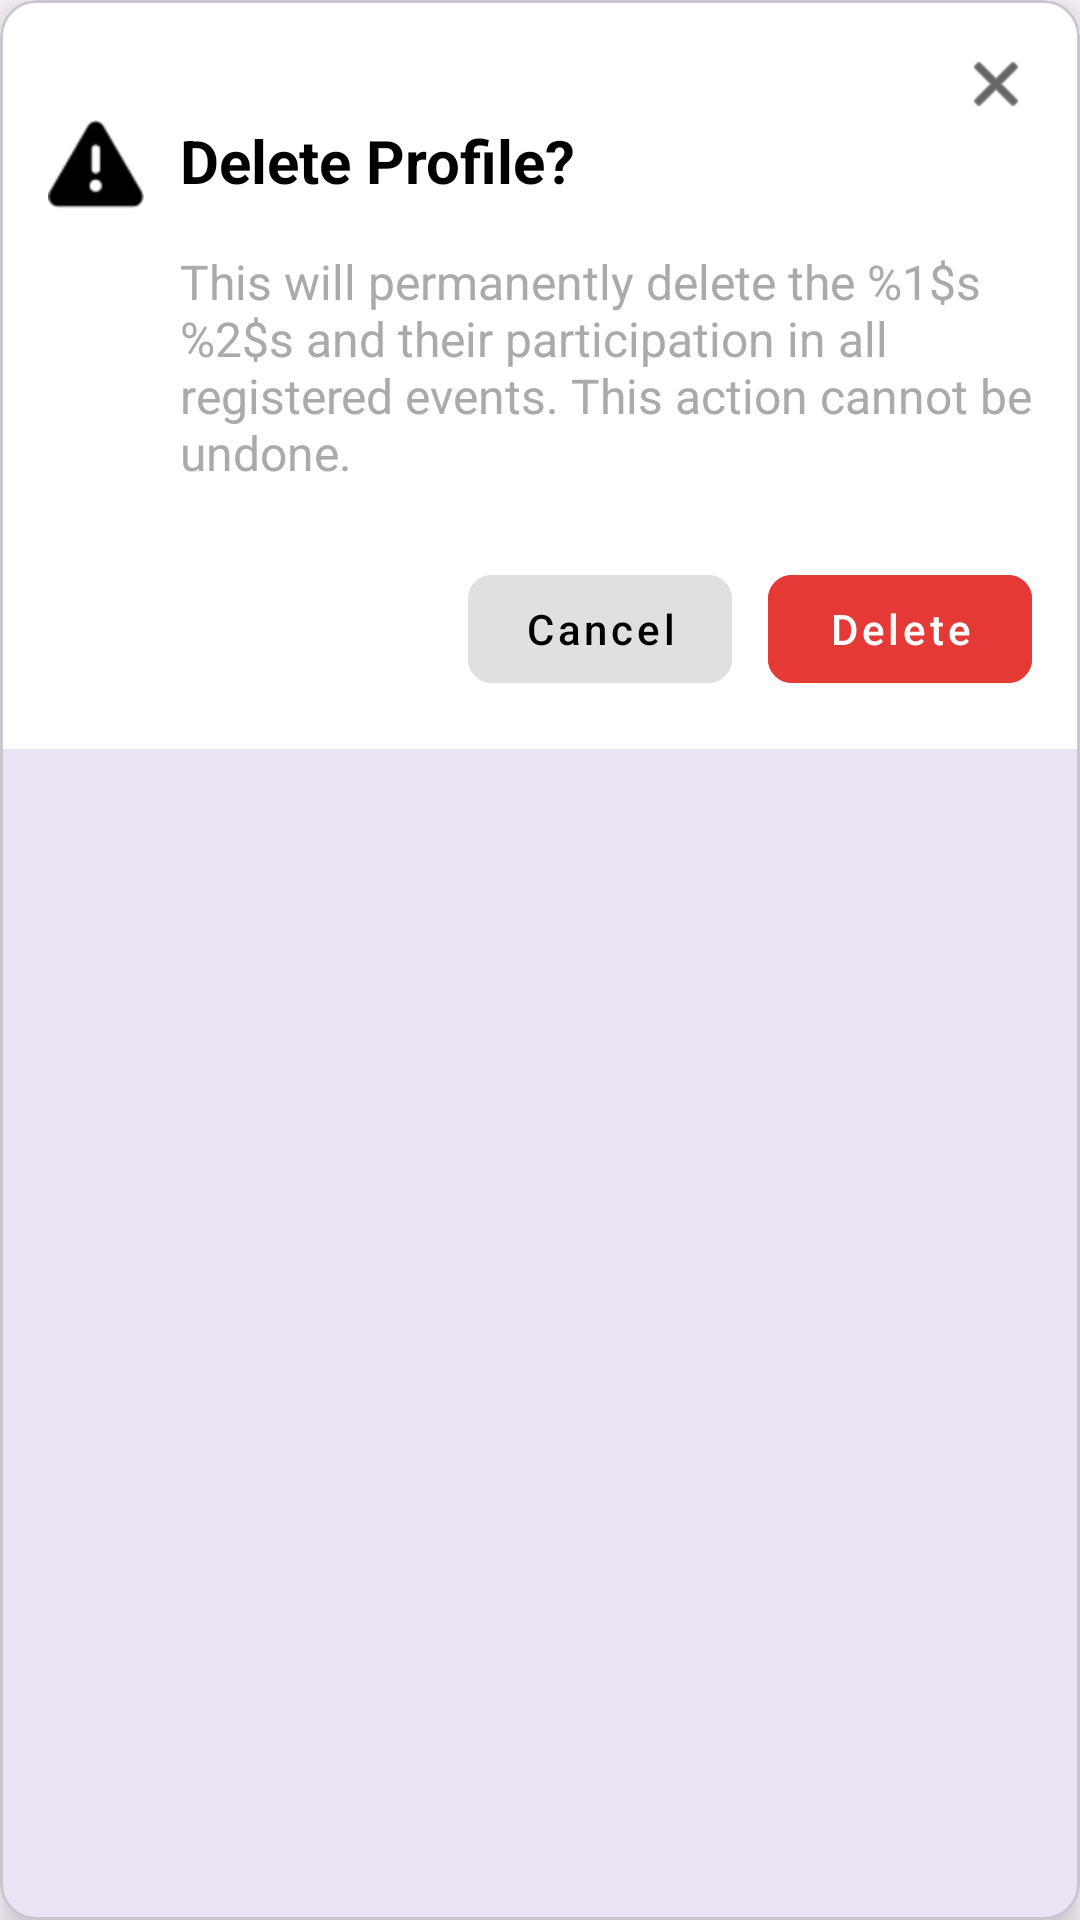

Named icons in this screenshot (1080px×1920px) and their centers, (x,y):
Alert icon: (96,164)
Close dialog: (996,84)
